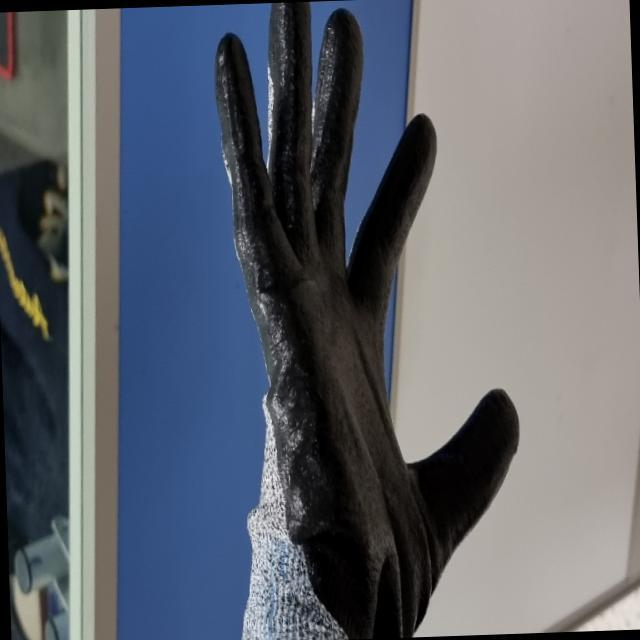Gloves: (212, 3, 520, 638)
